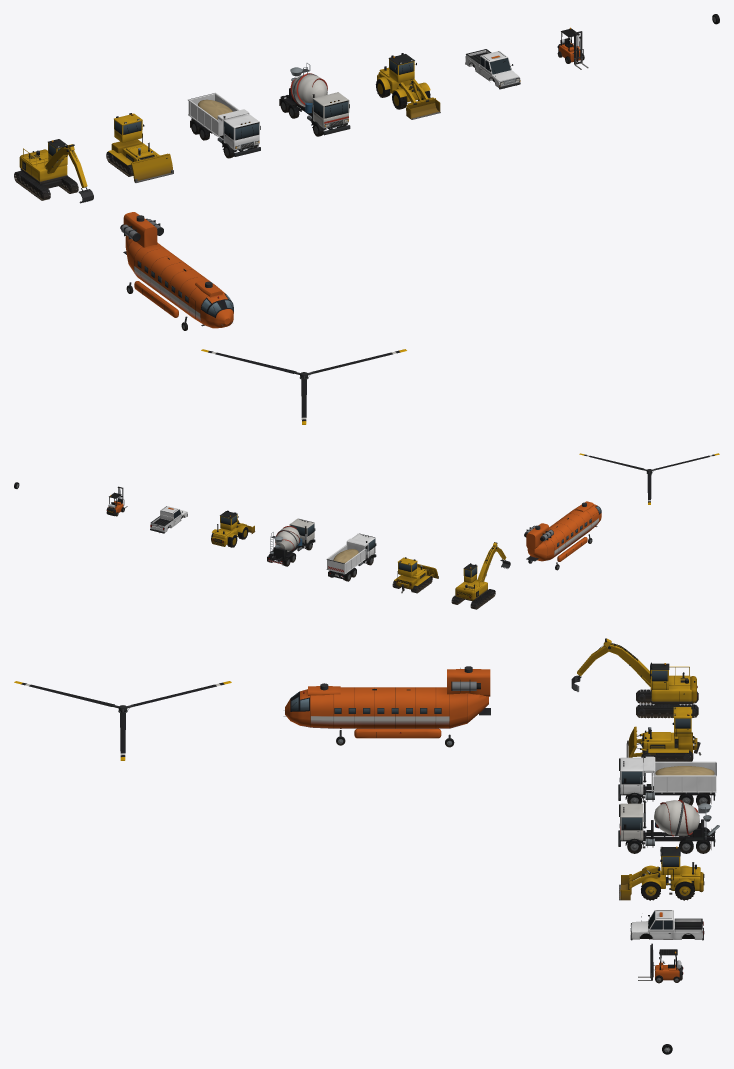
The model's file is machines.glb.
The picture shows the model from 3 angles, top to bottom: view 1: azimuth 30°, elevation 25°; view 2: azimuth 150°, elevation 25°; view 3: azimuth 270°, elevation 25°; orthographic projection. The views are drawn at different scales.
Parts seen in each view (by area): view 1: H_body, V_dump, V_mixer, V_dozer, V_loader, V_exc_upper, V_pickup_body, H_rotor, V_exc_base, V_forklift; view 2: H_body, V_dump, V_mixer, V_exc_upper, V_dozer, V_loader, V_pickup_body, H_rotor, V_forklift, V_exc_base; view 3: H_body, V_dump, V_mixer, V_loader, V_exc_upper, V_dozer, V_pickup_body, H_rotor, V_exc_base, V_forklift.
Part boxes in pixels (x1=…): H_body: x1=120, y1=212, x2=233, y2=330; V_dump: x1=188, y1=92, x2=260, y2=158; V_mixer: x1=279, y1=63, x2=350, y2=136; V_dozer: x1=106, y1=113, x2=173, y2=182; V_loader: x1=375, y1=53, x2=440, y2=119; V_exc_upper: x1=19, y1=139, x2=93, y2=203; V_pickup_body: x1=465, y1=49, x2=520, y2=89; H_rotor: x1=201, y1=349, x2=406, y2=424; V_exc_base: x1=14, y1=170, x2=78, y2=200; V_forklift: x1=557, y1=27, x2=588, y2=69; H_body: x1=524, y1=501, x2=601, y2=570; V_dump: x1=326, y1=533, x2=376, y2=581; V_mixer: x1=267, y1=518, x2=315, y2=566; V_exc_upper: x1=455, y1=542, x2=510, y2=600; V_dozer: x1=392, y1=557, x2=438, y2=593; V_loader: x1=211, y1=510, x2=255, y2=547; V_pickup_body: x1=150, y1=506, x2=187, y2=533; H_rotor: x1=579, y1=453, x2=719, y2=504; V_forklift: x1=106, y1=486, x2=127, y2=516; V_exc_base: x1=451, y1=589, x2=495, y2=609; H_body: x1=283, y1=666, x2=490, y2=747; V_dump: x1=618, y1=755, x2=716, y2=805; V_mixer: x1=618, y1=799, x2=719, y2=853; V_loader: x1=619, y1=846, x2=704, y2=900; V_exc_upper: x1=571, y1=638, x2=697, y2=703; V_dozer: x1=626, y1=707, x2=701, y2=762; V_pickup_body: x1=630, y1=910, x2=704, y2=940; H_rotor: x1=14, y1=681, x2=231, y2=760; V_exc_base: x1=636, y1=689, x2=698, y2=718; V_forklift: x1=638, y1=943, x2=683, y2=983.
Bounding box in the file's own units: 64.88 × 7.76 × 51.88.
